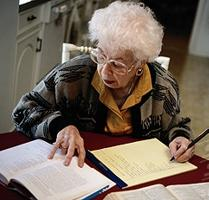person: (13, 3, 197, 165)
